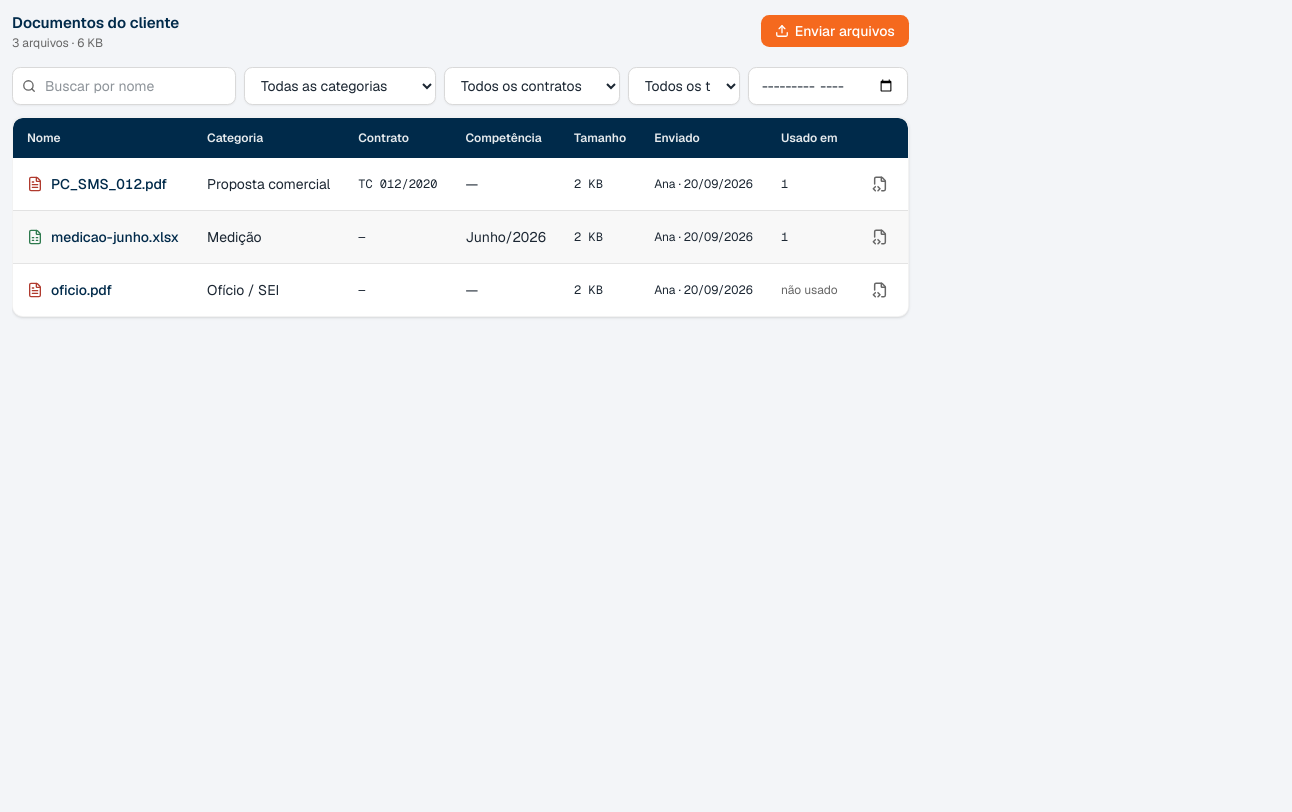
AbaDocumentos › remove arquivo sem uso após confirmação inline
Click the button "oficio.pdf" at {"x": 70, "y": 290}, box [27,280,112,300]
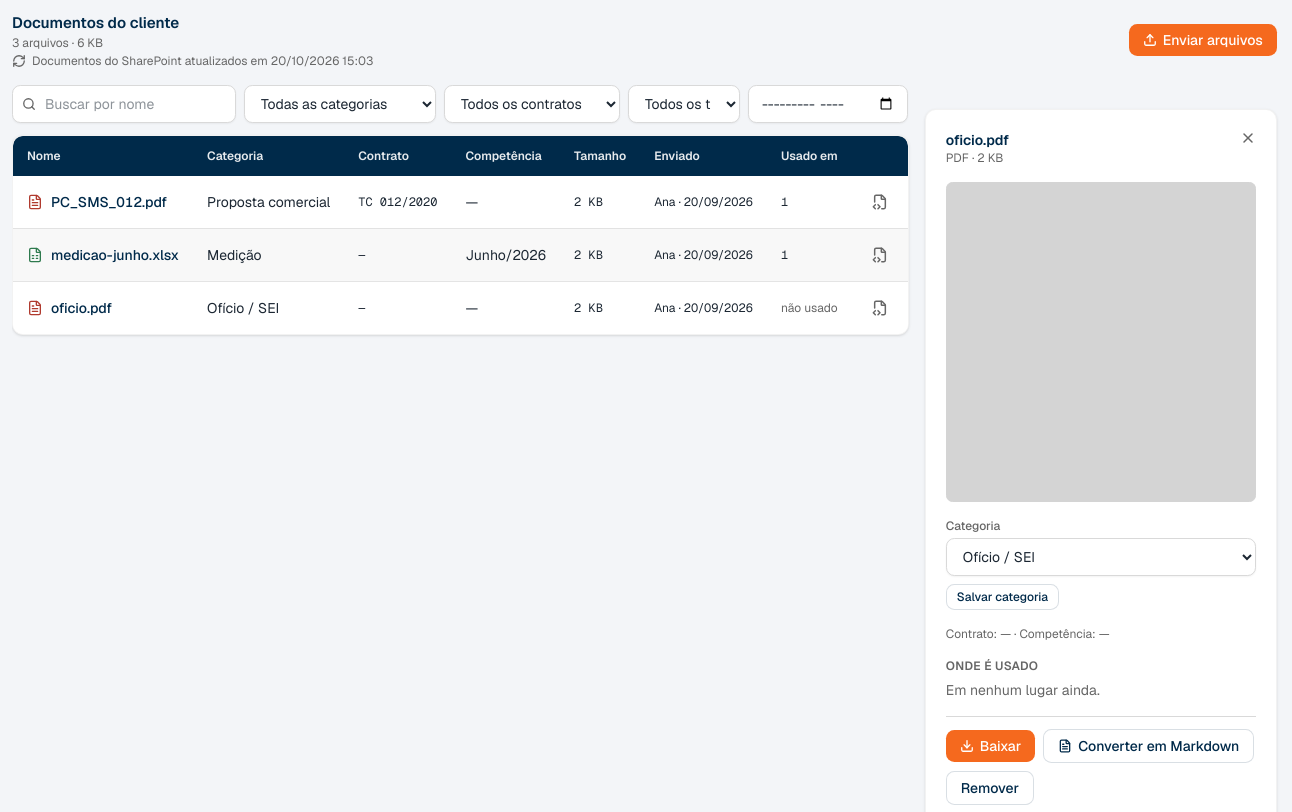
Click the button "Remover" at {"x": 990, "y": 788}, box [946,771,1034,805]
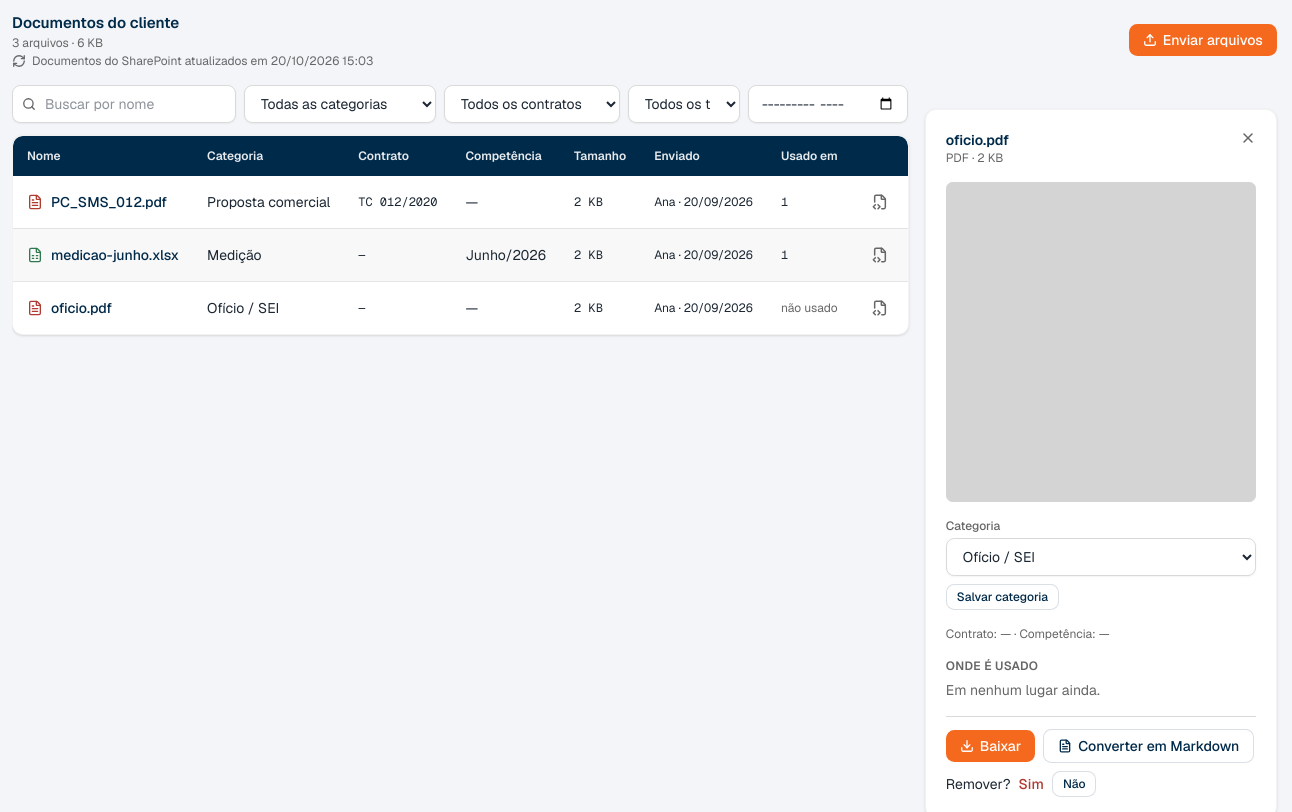
Click the button "Sim" at {"x": 1031, "y": 784}, box [1018,774,1044,794]
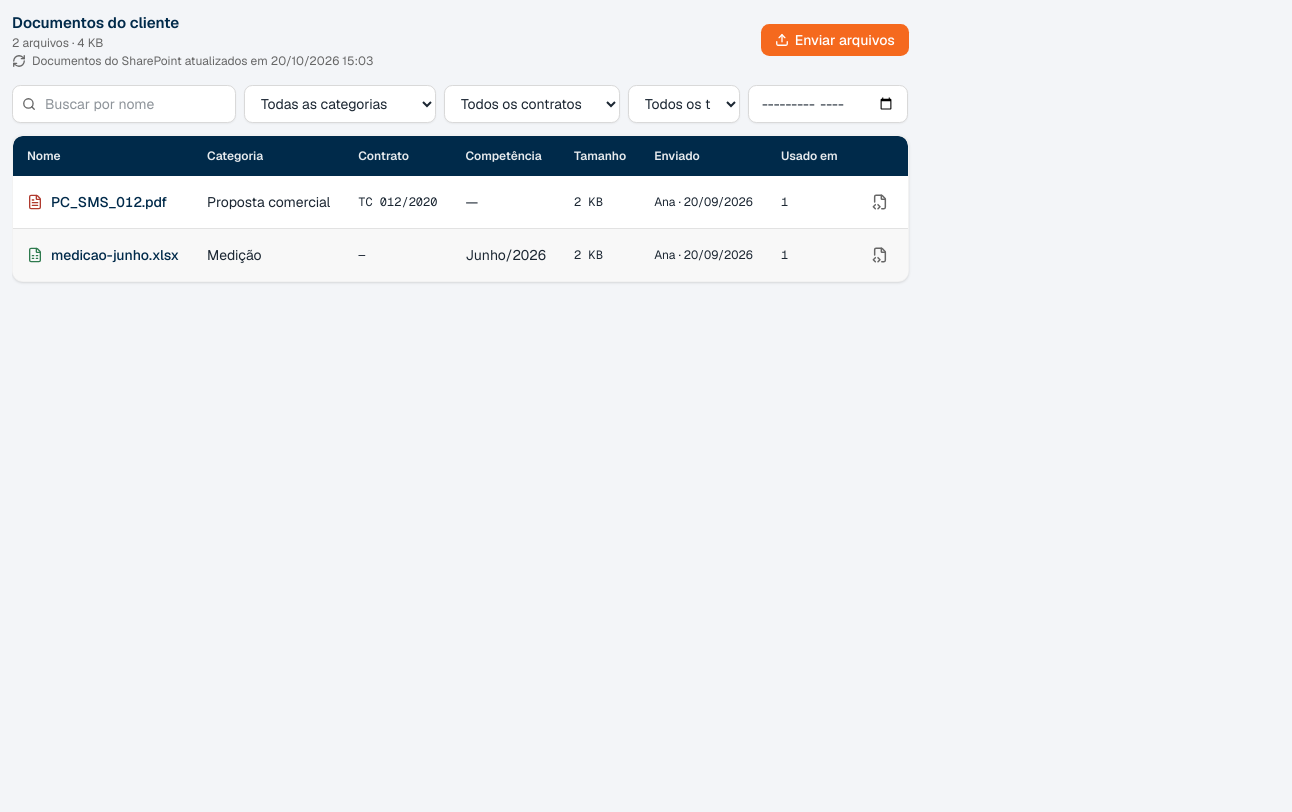
Result: the button "oficio.pdf" is gone
